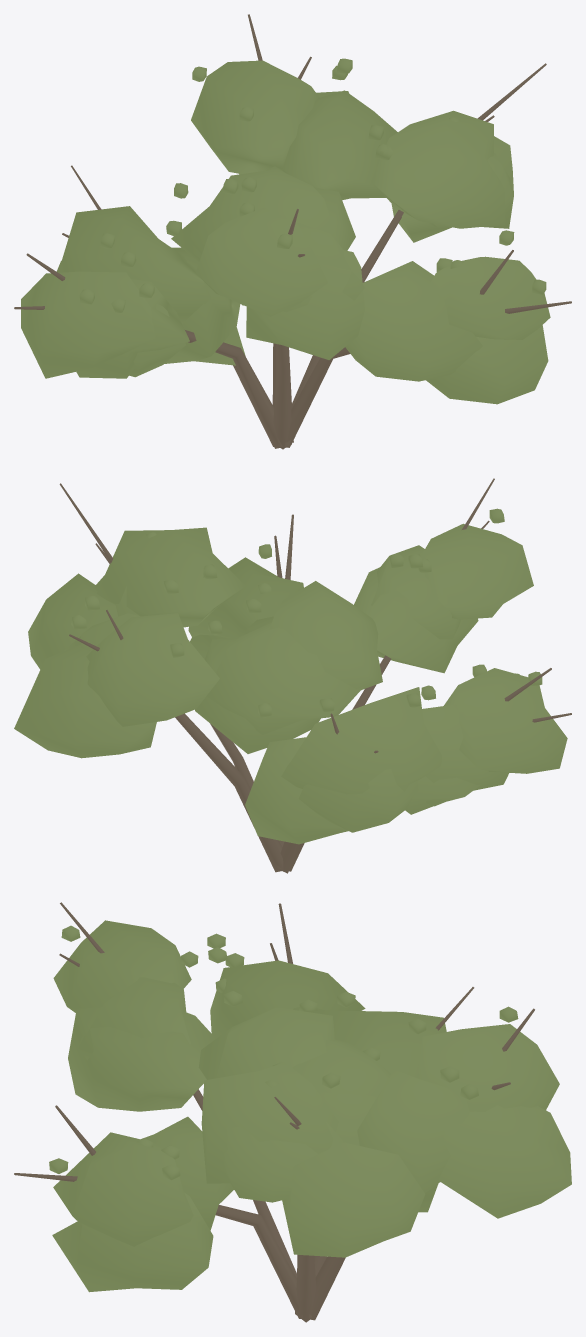
The model's file is Blender_Bitterbrush_1.glb.
3 views of the same model, one above another, from view 1: azimuth 30°, elevation 25°; view 2: azimuth 150°, elevation 25°; view 3: azimuth 270°, elevation 25° (orthographic). The views are drawn at different scales.
Parts seen in each view (by area): view 1: Blender_Bitterbrush_1; view 2: Blender_Bitterbrush_1; view 3: Blender_Bitterbrush_1.
Boxes of the visible parts, x1=… form: Blender_Bitterbrush_1: x1=14, y1=14, x2=571, y2=449; Blender_Bitterbrush_1: x1=14, y1=478, x2=571, y2=873; Blender_Bitterbrush_1: x1=14, y1=902, x2=571, y2=1322.
Size of the model in its own units: 2.17 by 1.35 by 1.88.
